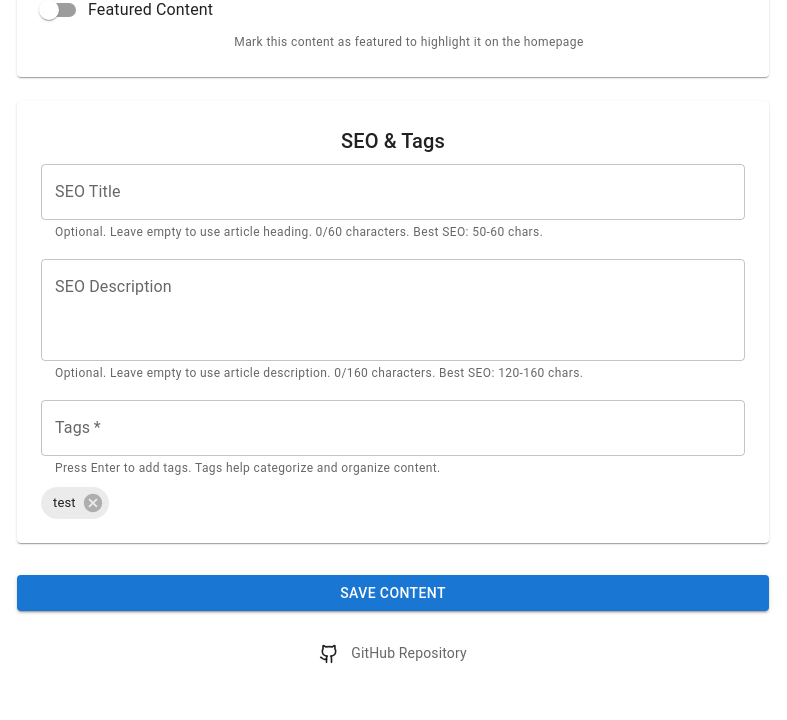
CMSForm › Form Submission › should display error message when submission fails
(page scrolled)
Click the button "Save Content" at (393, 593), box [17,575,769,611]
(page scrolled)
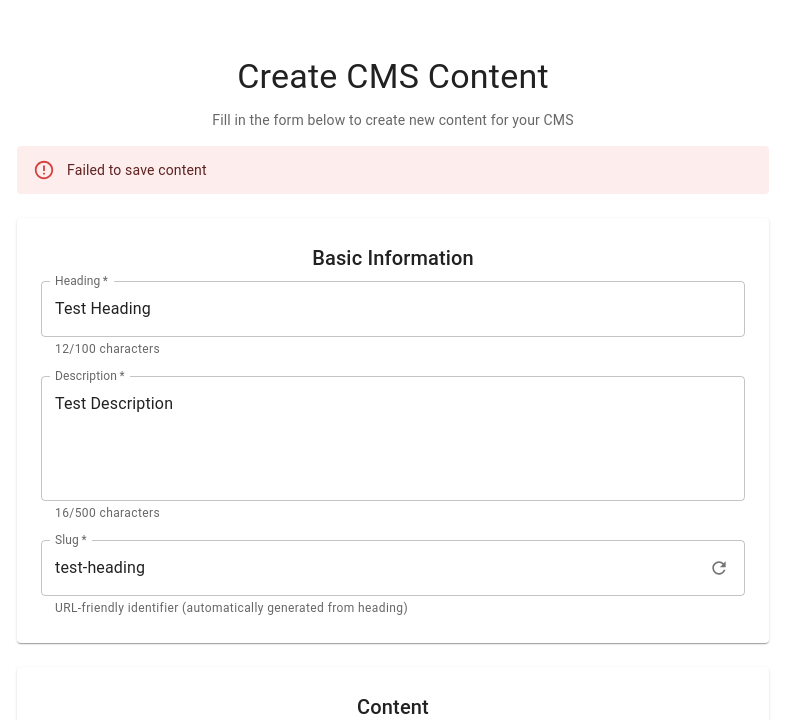
Expected: the text "Failed to save content" is shown, [67,162,207,178]
